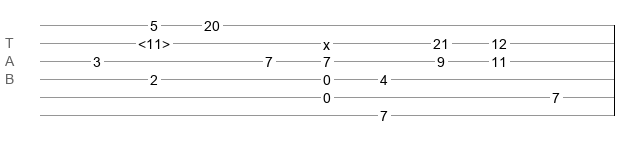0: (323, 90, 331, 100), (323, 72, 331, 82)
11: (491, 54, 507, 64)
12: (491, 36, 507, 46)
2: (150, 72, 158, 82)
20: (204, 18, 220, 28)
21: (433, 36, 449, 46)
3: (93, 54, 101, 64)
4: (380, 72, 388, 82)
5: (150, 18, 158, 28)
7: (265, 54, 273, 64), (323, 54, 331, 64), (380, 108, 388, 118), (552, 90, 560, 100)
9: (437, 54, 445, 64)
harmonic: (138, 36, 170, 46)
x: (323, 37, 330, 45)
